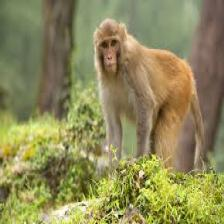monkey: (89, 13, 208, 185)
